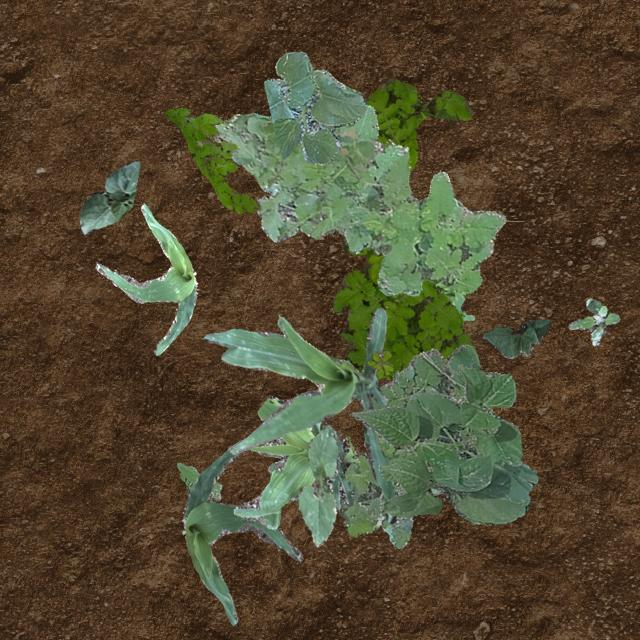crop: (201, 306, 395, 522), (350, 362, 538, 524), (180, 446, 302, 624), (232, 394, 358, 528), (95, 202, 196, 354), (262, 52, 366, 165), (298, 424, 338, 546), (78, 160, 140, 233), (482, 318, 550, 358), (434, 282, 474, 320)
weed: (212, 104, 504, 294), (267, 343, 529, 548), (332, 78, 472, 378), (163, 106, 260, 212), (568, 296, 618, 344), (176, 462, 220, 501), (366, 350, 392, 378), (430, 488, 440, 492)
